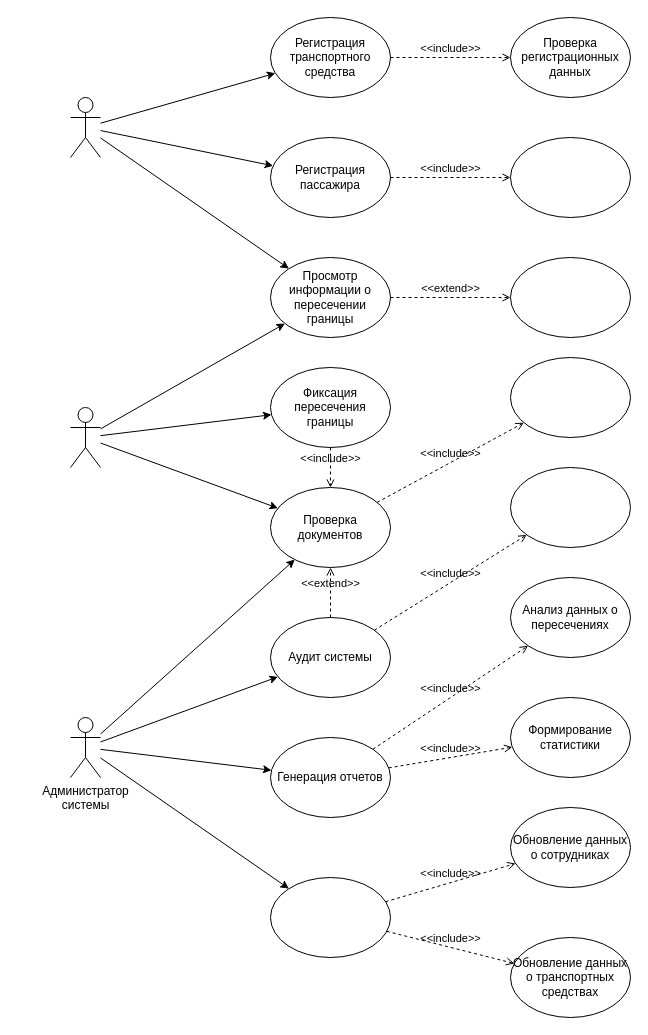
This 648x1035 diagram has some shape labels left out. The shapes that lost their labels are listed below. From the top down, each one's centre as x and y in pixels, then its label:
At [85,127]: "Человек, пересекающий границу".
At [570,177]: "Проверка паспортных данных".
At [570,297]: "Доступ к истории пересечений".
At [570,397]: "Проверка визового статуса".
At [85,437]: "Сотрудник пограничного контроля".
At [570,507]: "Мониторинг доступа".
At [330,917]: "Управление данными".
